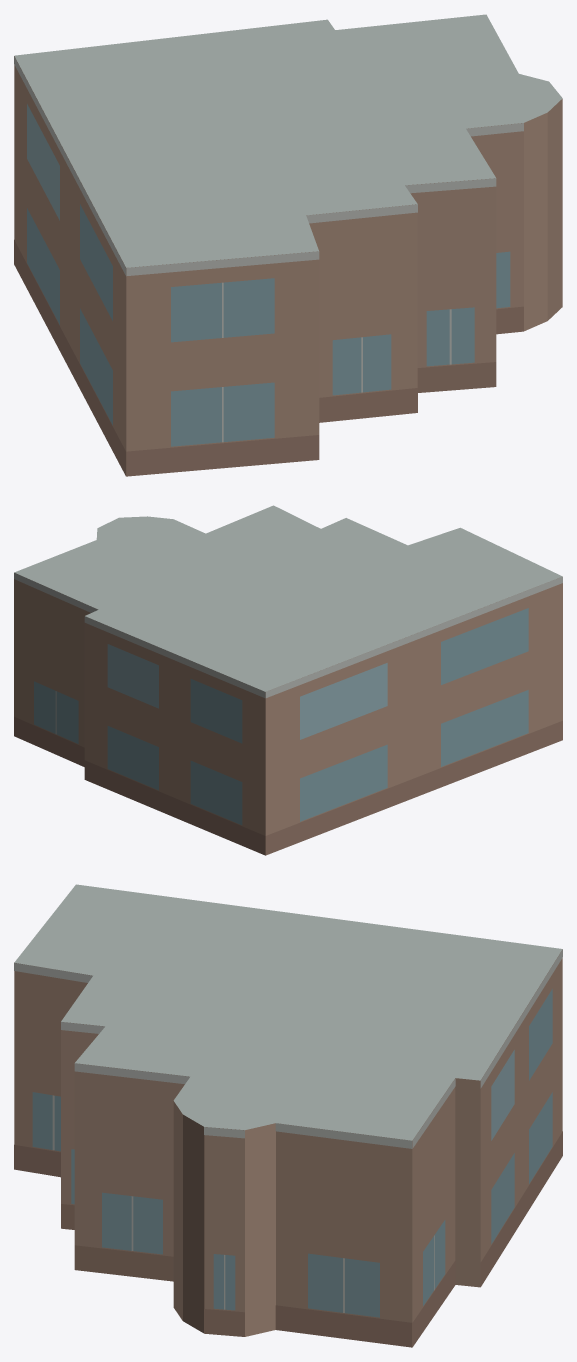
File: survey-upis-32995406.glb
3 renders of one model, top to bottom at view 1: azimuth 30°, elevation 25°; view 2: azimuth 150°, elevation 25°; view 3: azimuth 270°, elevation 25°, orthographic. The views are drawn at different scales.
Parts seen in each view (by area): view 1: survey-upis-32995406.tmp; view 2: survey-upis-32995406.tmp; view 3: survey-upis-32995406.tmp.
Boxes of the visible parts, x1,y1,x2,y2 form: survey-upis-32995406.tmp: (14, 14, 562, 476); survey-upis-32995406.tmp: (14, 505, 562, 855); survey-upis-32995406.tmp: (14, 884, 562, 1347).
Bounding box in the file's own units: 16.23 × 6.1 × 14.68.
